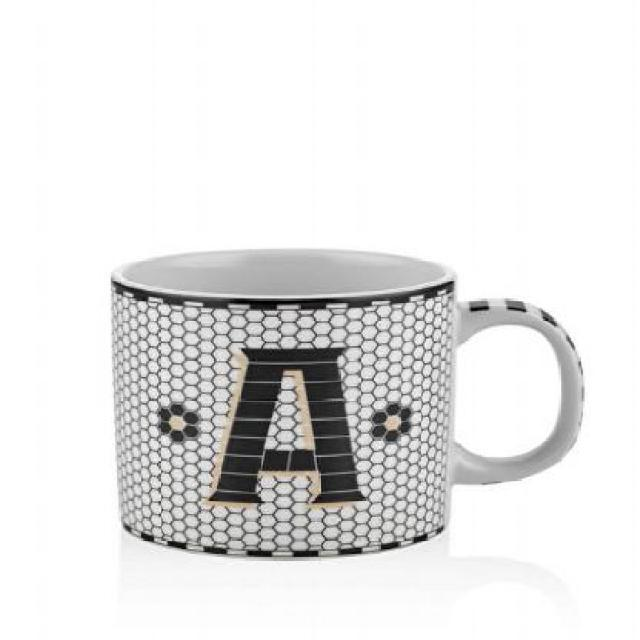taza: (112, 246, 588, 563)
